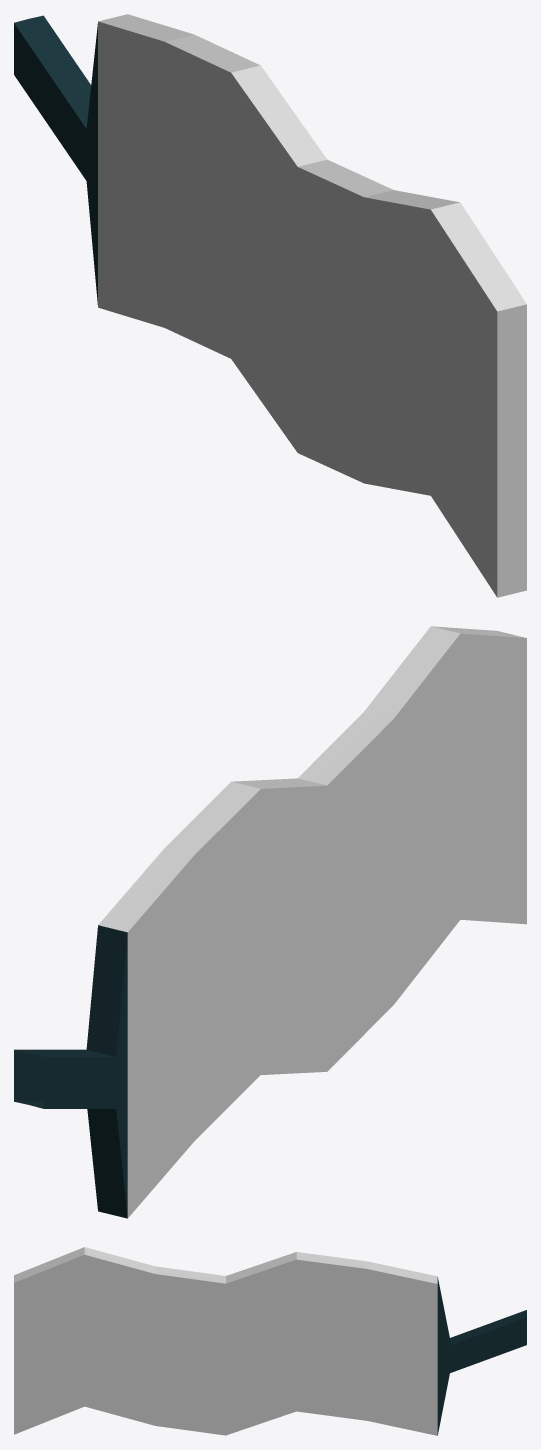
File: Satelites_WingLeftTrash.fbx
3 views of the same model, one above another, from view 1: azimuth 30°, elevation 25°; view 2: azimuth 150°, elevation 25°; view 3: azimuth 270°, elevation 25° (orthographic). The views are drawn at different scales.
Parts seen in each view (by area): view 1: Cube.002; view 2: Cube.002; view 3: Cube.002.
Boxes of the visible parts, x1=… form: Cube.002: x1=14, y1=14, x2=526, y2=597; Cube.002: x1=14, y1=626, x2=526, y2=1218; Cube.002: x1=14, y1=1247, x2=526, y2=1435.
Bounding box in the file's own units: 24.6 × 271 × 694.
